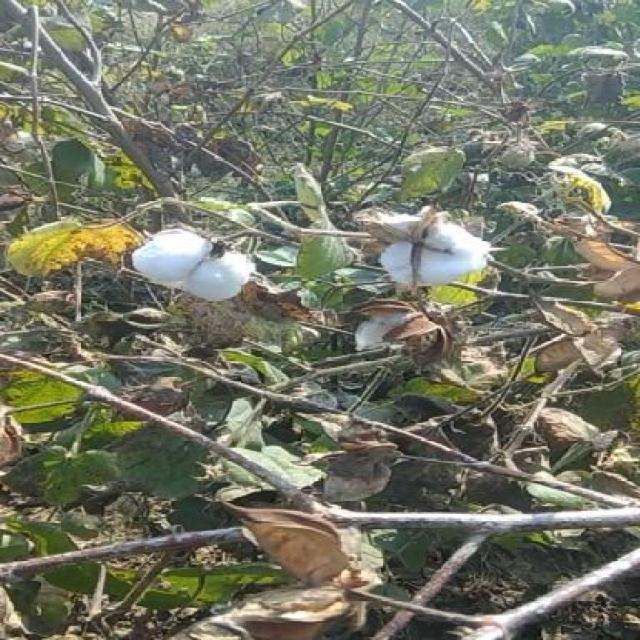cotton_ready: (328, 199, 517, 313), (119, 215, 273, 319)
